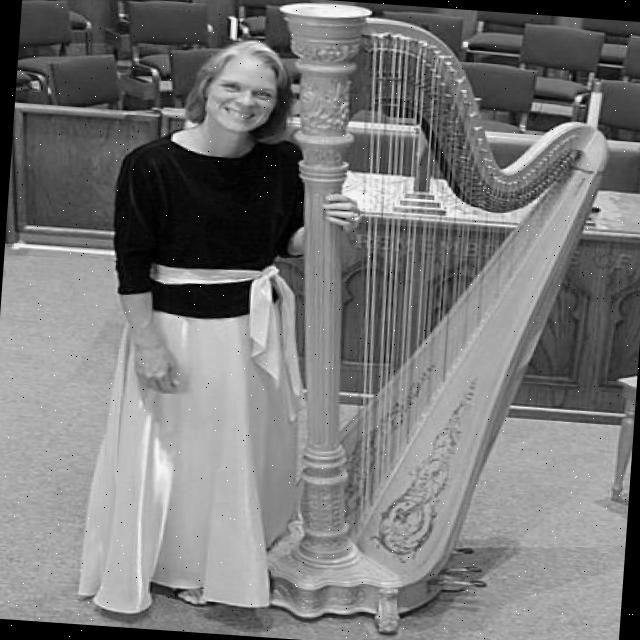harp: (225, 0, 624, 635)
